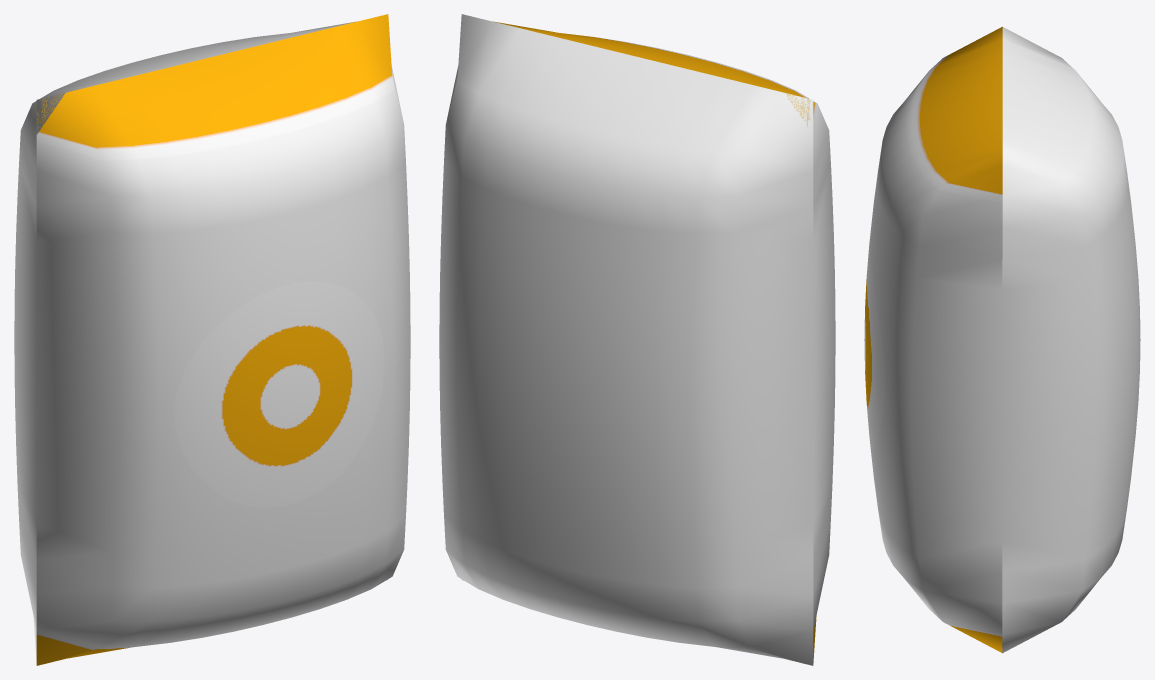
The model's file is Flour.fbx.
3 renders of one model, left to right at view 1: azimuth 30°, elevation 25°; view 2: azimuth 150°, elevation 25°; view 3: azimuth 270°, elevation 25°, orthographic. The views are drawn at different scales.
Visible parts, largest first — view 1: Flour; view 2: Flour; view 3: Flour.
Part boxes in pixels (left/top/right/bottom): Flour: left=14, top=14, right=410, bottom=665; Flour: left=439, top=14, right=835, bottom=665; Flour: left=864, top=26, right=1140, bottom=653.
Bounding box in the file's own units: 0.13 × 0.2 × 0.1.
Materials: 2 (1 with a texture image).
